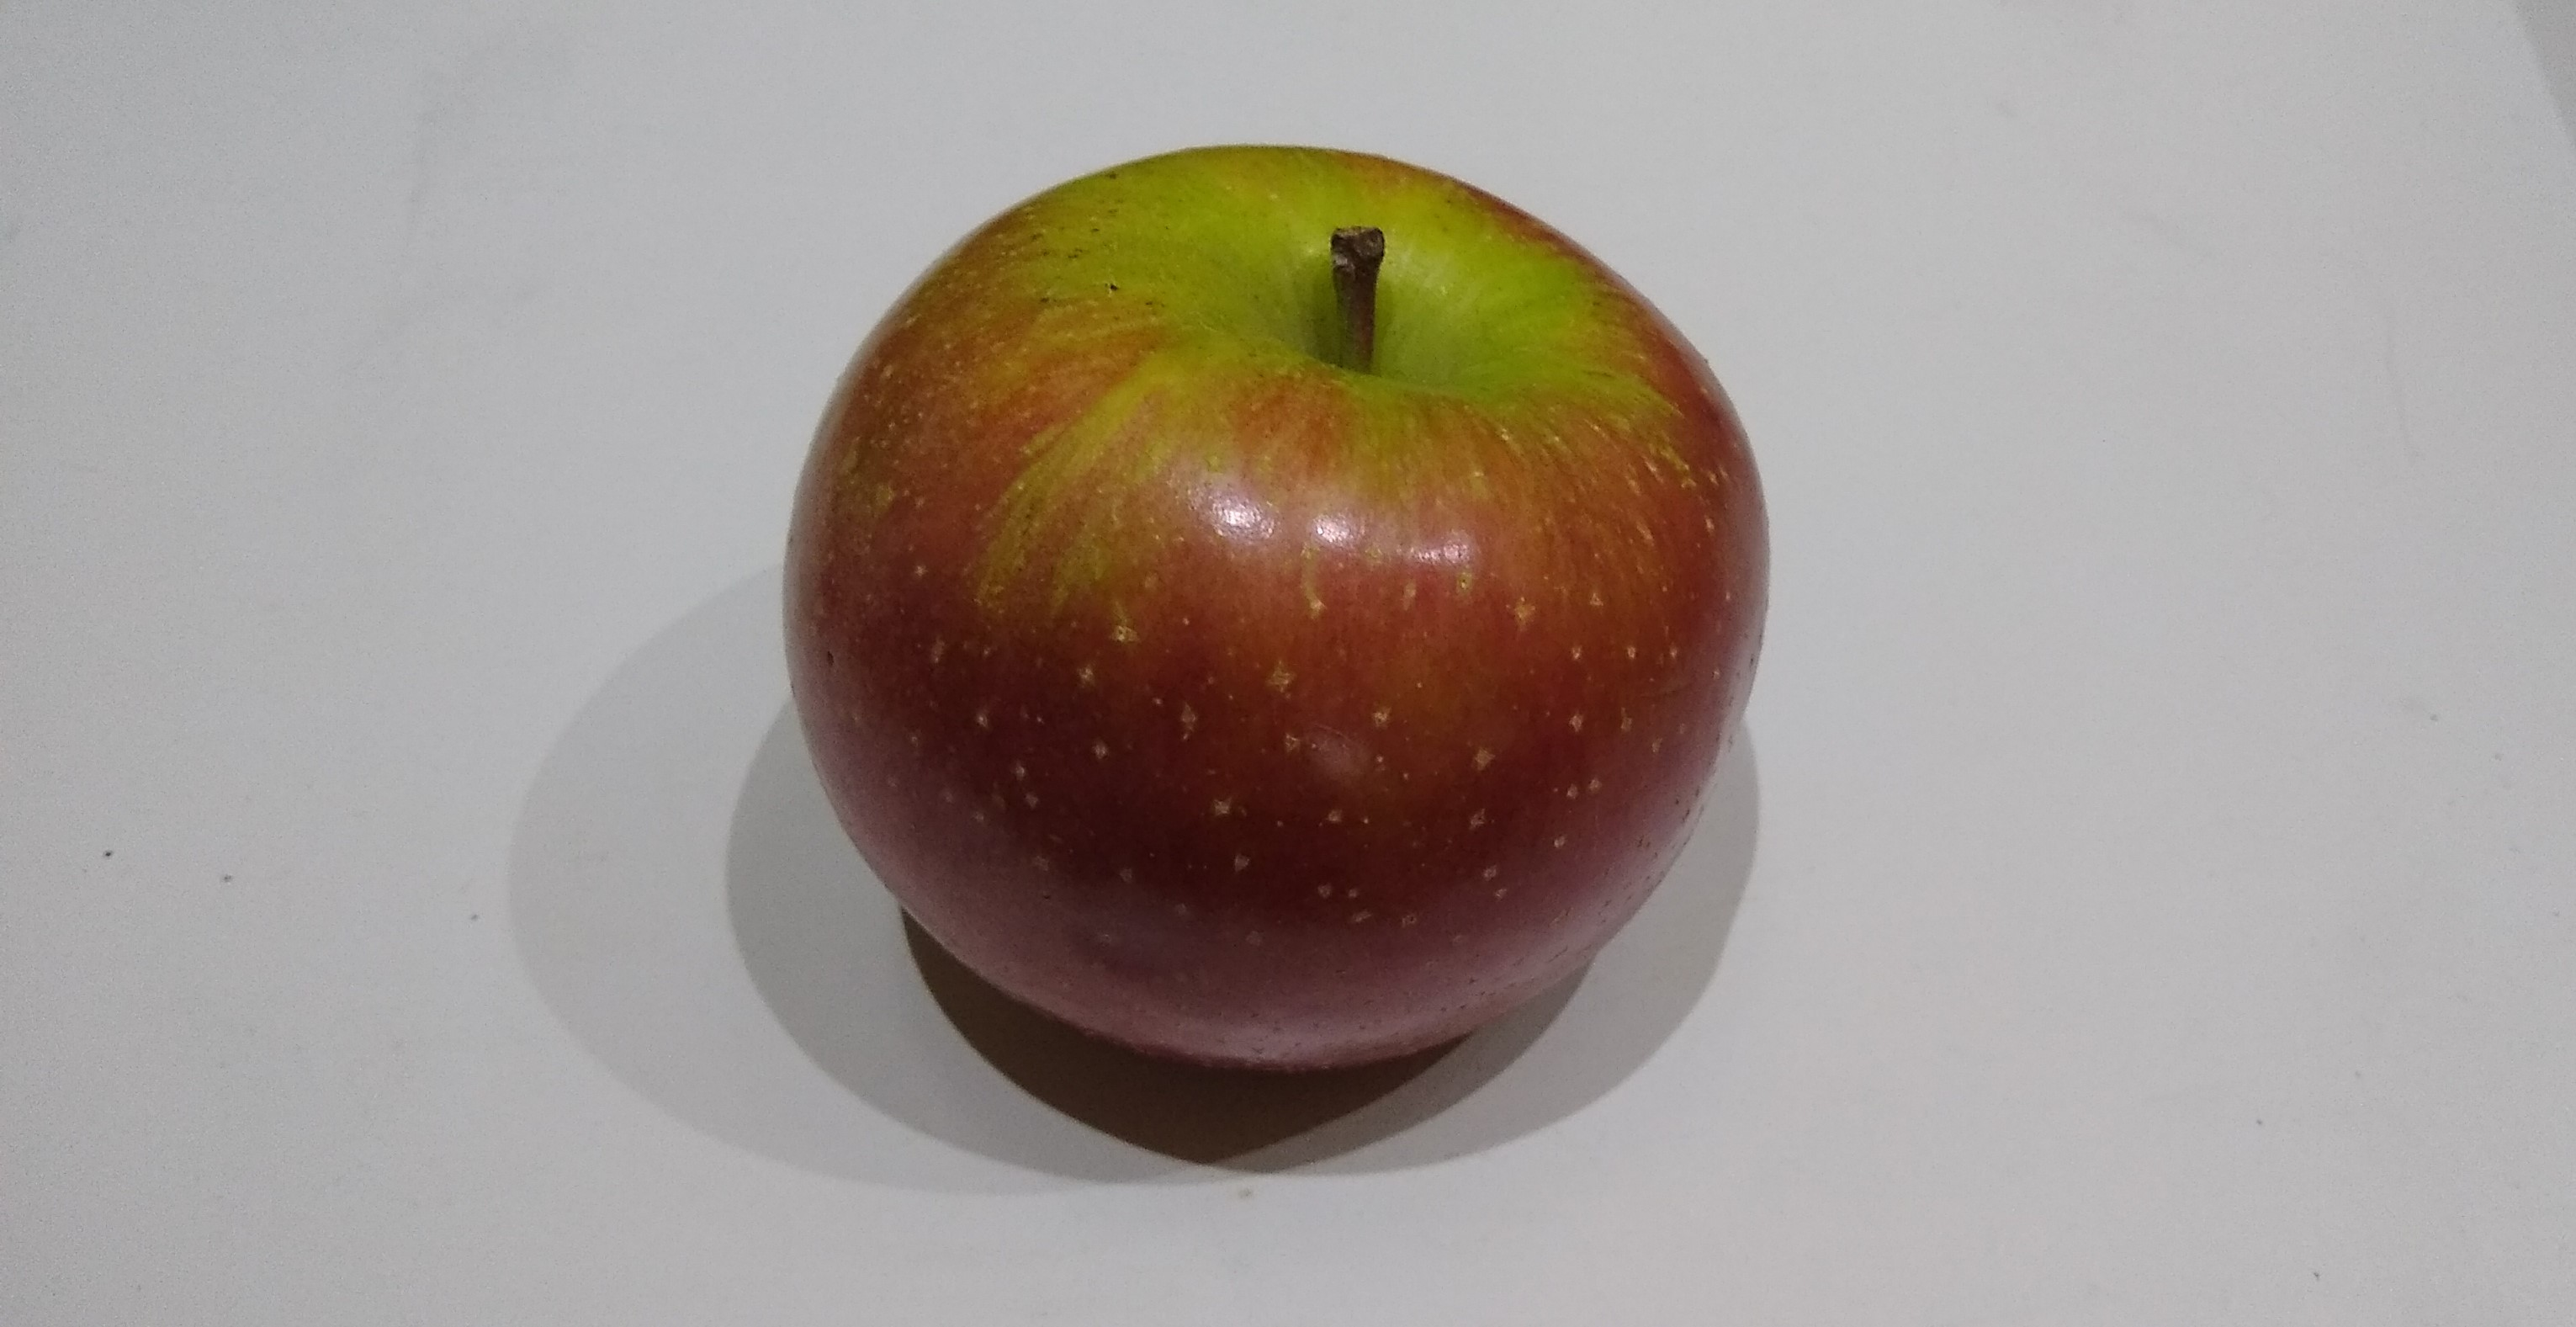Apple: (770, 123, 1793, 1090)
